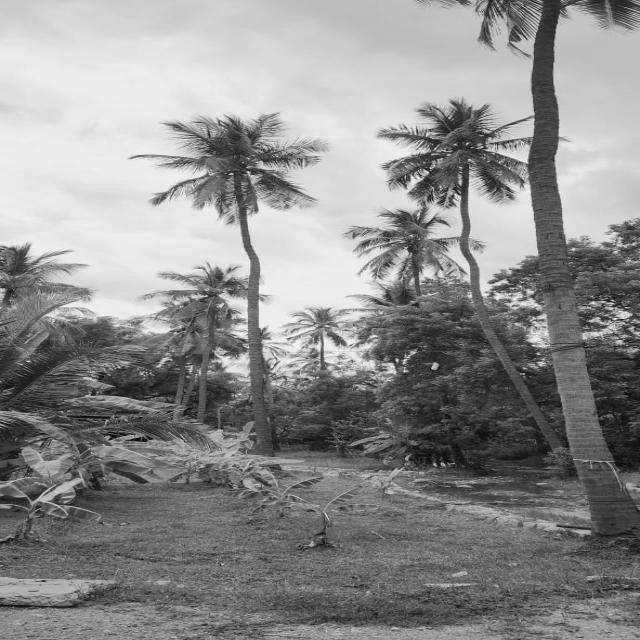Coconut-tree: (413, 1, 640, 541), (155, 114, 320, 462), (387, 113, 522, 461)
